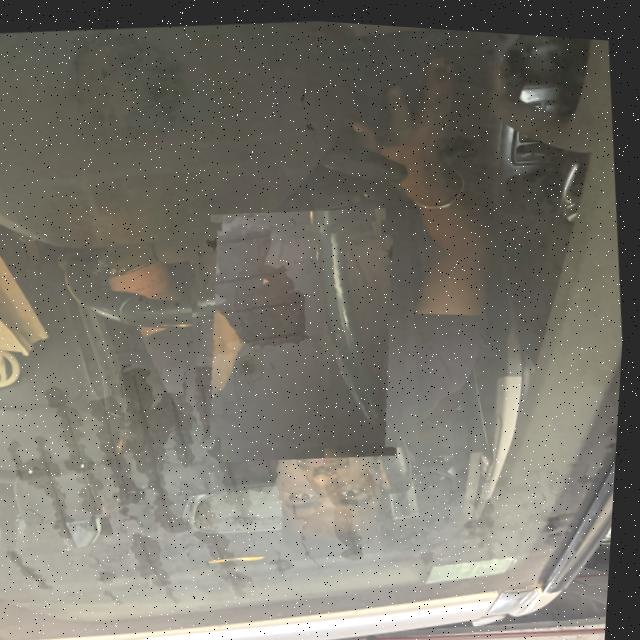no-seatbelt: (179, 200, 433, 457)
